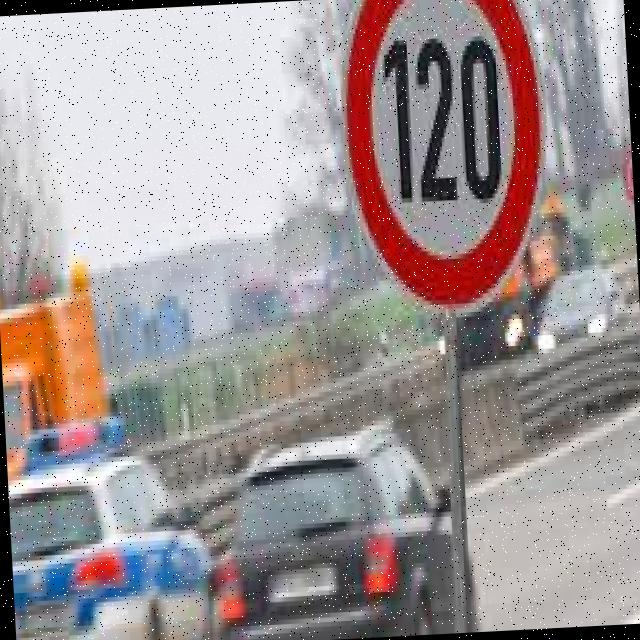speed_limit_120: (325, 0, 559, 315)
